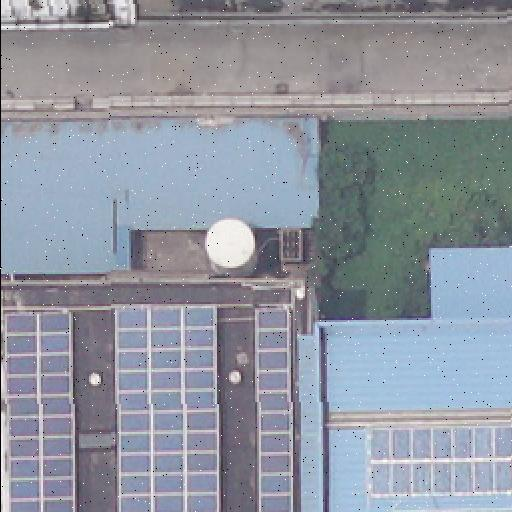solar-panel: (117, 305, 219, 511), (5, 312, 75, 512), (368, 420, 512, 496), (257, 305, 295, 511), (390, 505, 512, 511)
